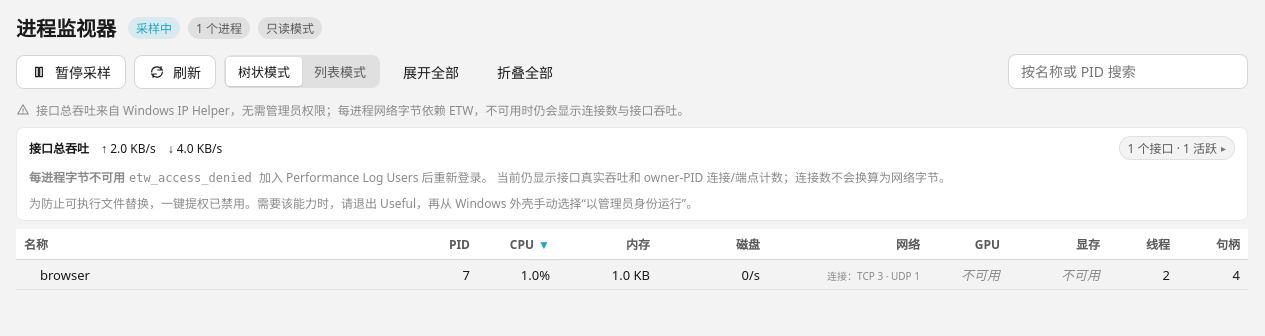
Test: ProcessMonitorView 网络降级显示 › 标准用户看到接口真实吞吐、权限提示和独立连接计数
Click the button with test id "toggle-network-interfaces": x=1177, y=148 [1118,136,1235,160]
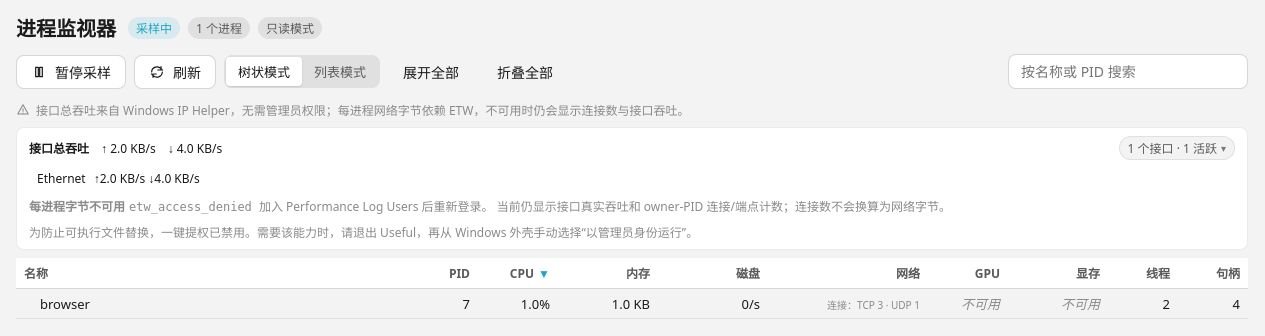
Expected: the text "每进程字节不可用" is shown, [29,198,125,215]
Result: the element with test id "network-interfaces-list" is shown at [29,168,208,189]
Result: the text "Ethernet" is shown at [37,170,86,187]
